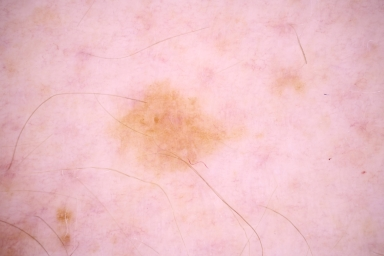nevus: (113, 81, 235, 173)
